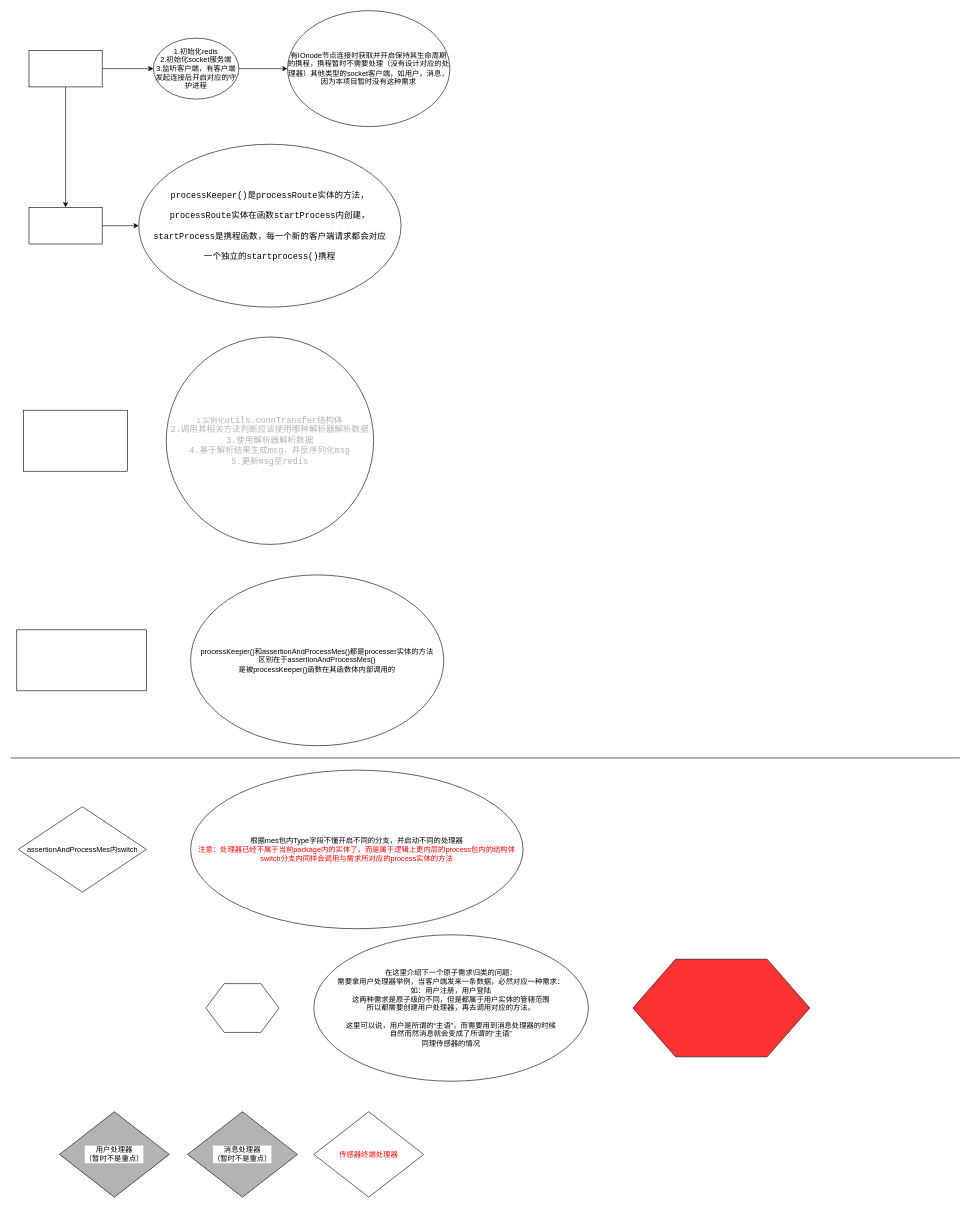
This 971x1208 diagram has some shape labels left out. The shapes that lost their labels are listed below. From the top down, each one's centre as x and y in pixels, then its label:
[65,68]: main
[65,225]: startProcess
[75,440]: processKeeper
[81,660]: assertionAndProcessMes
[242,1007]: 处理器
[721,1008]: 设计思路升华： 以后会经常遇到设计处理器的情况 这决定了编程思想中 设计数据流向的思路是否成熟 这里属于对流向分支的把控 理解“主语”是谁十分钟要
